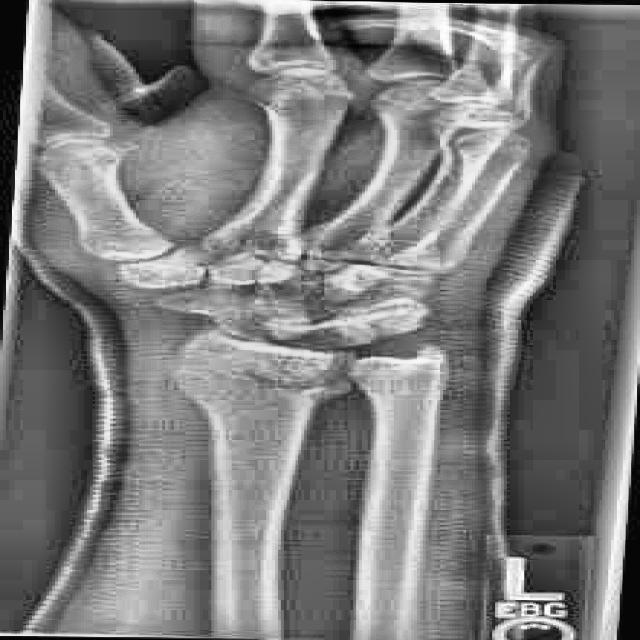wrist positive: (196, 351, 412, 413)
